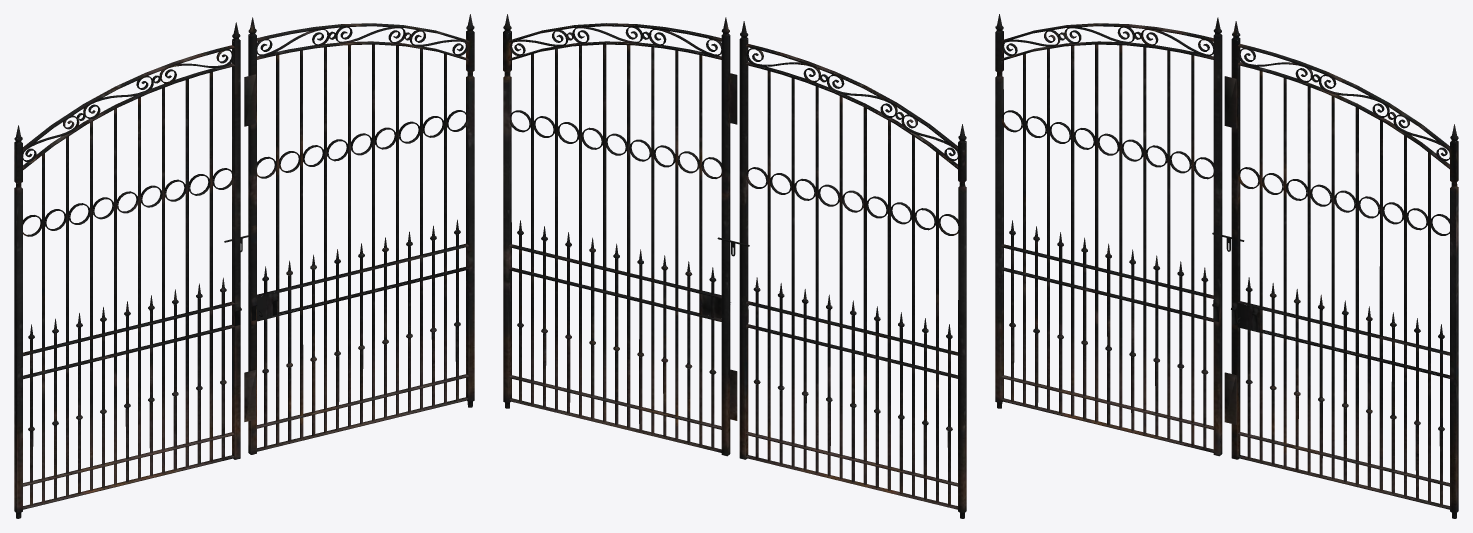
The model's file is minegate.glb.
3 renders of one model, left to right at view 1: azimuth 30°, elevation 25°; view 2: azimuth 150°, elevation 25°; view 3: azimuth 330°, elevation 25°, orthographic.
Visible parts, largest first — view 1: large_iron_gate_right_door.001, large_iron_gate_left_door.001; view 2: large_iron_gate_right_door.001, large_iron_gate_left_door.001; view 3: large_iron_gate_right_door.001, large_iron_gate_left_door.001.
Part boxes in pixels (bbox=[...]): large_iron_gate_right_door.001: bbox=[244, 14, 474, 454]; large_iron_gate_left_door.001: bbox=[14, 22, 241, 518]; large_iron_gate_right_door.001: bbox=[503, 14, 737, 456]; large_iron_gate_left_door.001: bbox=[739, 21, 966, 518]; large_iron_gate_right_door.001: bbox=[1224, 21, 1458, 518]; large_iron_gate_left_door.001: bbox=[995, 14, 1222, 456].
Bounding box in the file's own units: 3.57 × 3.28 × 0.0989.
Materials: 1 (1 with a texture image).
